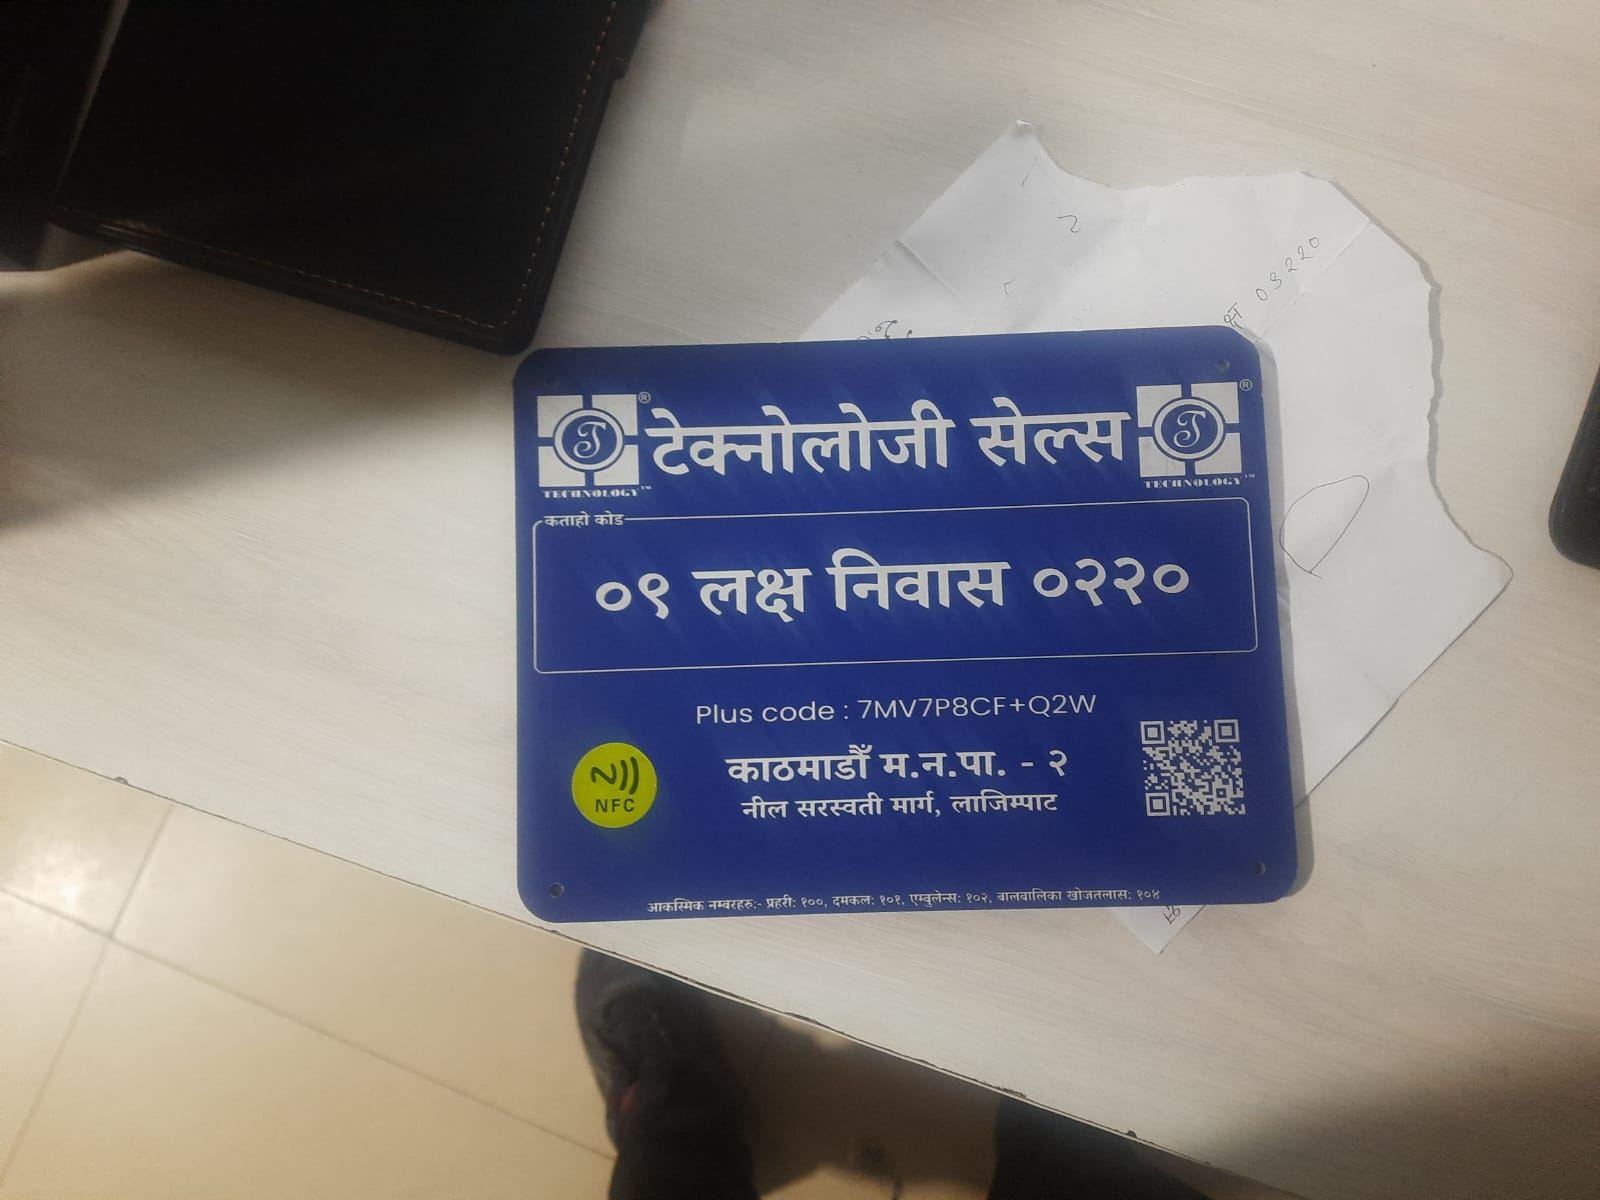Plate: (506, 319, 1306, 929)
